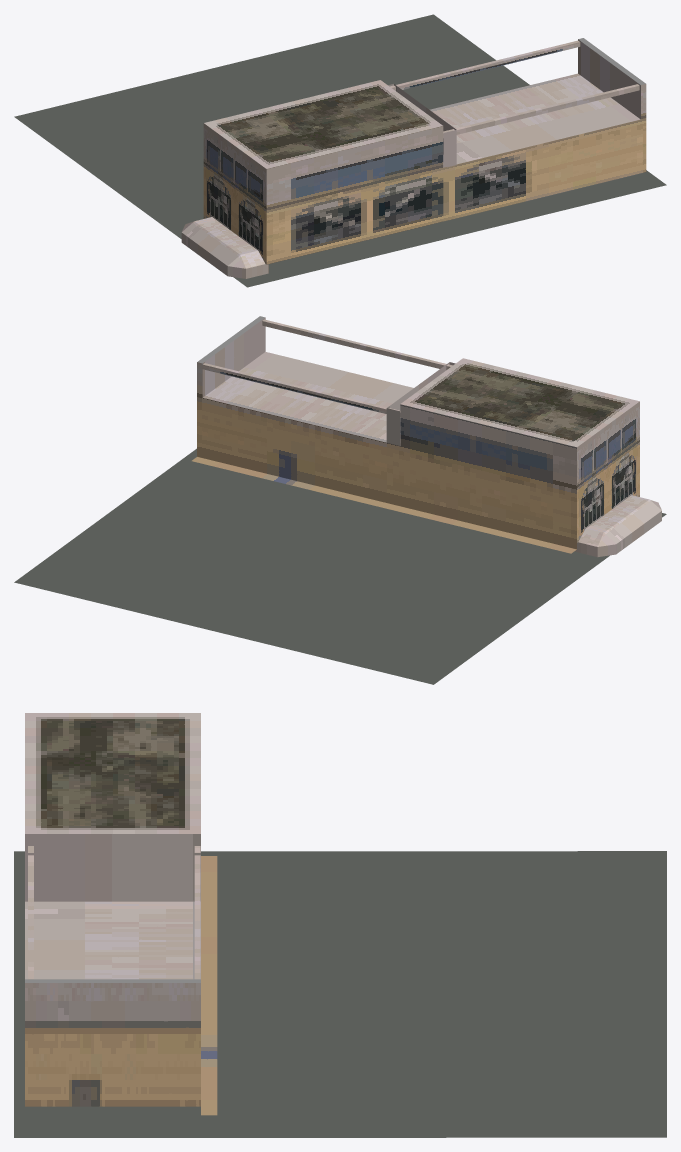
The model's file is lodgaz25_law.obj.
The picture shows the model from 3 angles, top to bottom: view 1: azimuth 30°, elevation 25°; view 2: azimuth 150°, elevation 25°; view 3: azimuth 270°, elevation 25°; orthographic projection. The views are drawn at different scales.
Parts seen in each view (by area): view 1: LODgaz25_law; view 2: LODgaz25_law; view 3: LODgaz25_law.
Boxes of the visible parts, x1,y1,x2,y2 form: LODgaz25_law: (14,14,666,287); LODgaz25_law: (14,316,666,684); LODgaz25_law: (14,713,666,1137).
Size of the model in its own units: 64.11 by 15.77 by 60.65.
Materials: 5 (4 with a texture image).
